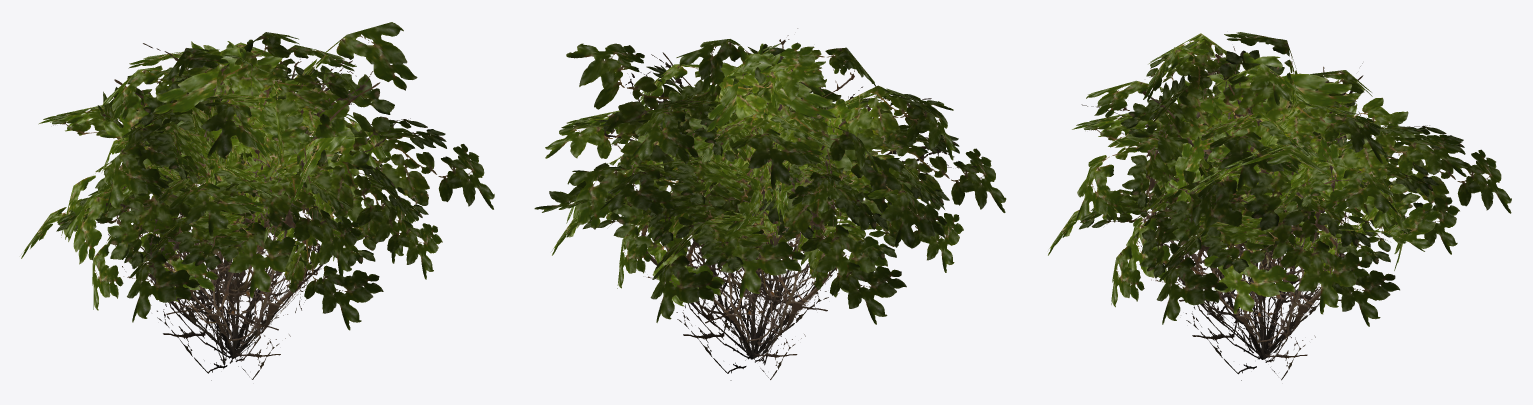
File: bushes_5.glb
3 renders of one model, left to right at view 1: azimuth 30°, elevation 25°; view 2: azimuth 150°, elevation 25°; view 3: azimuth 270°, elevation 25°, orthographic. The views are drawn at different scales.
Parts seen in each view (by area): view 1: bush_05; view 2: bush_05; view 3: bush_05.
Boxes of the visible parts, bbox=[...] form: bush_05: bbox=[21, 22, 494, 380]; bush_05: bbox=[534, 28, 1006, 380]; bush_05: bbox=[1048, 32, 1511, 380].
Bounding box in the file's own units: 13.08 × 10.88 × 13.1.
1 material, 1 textured.
